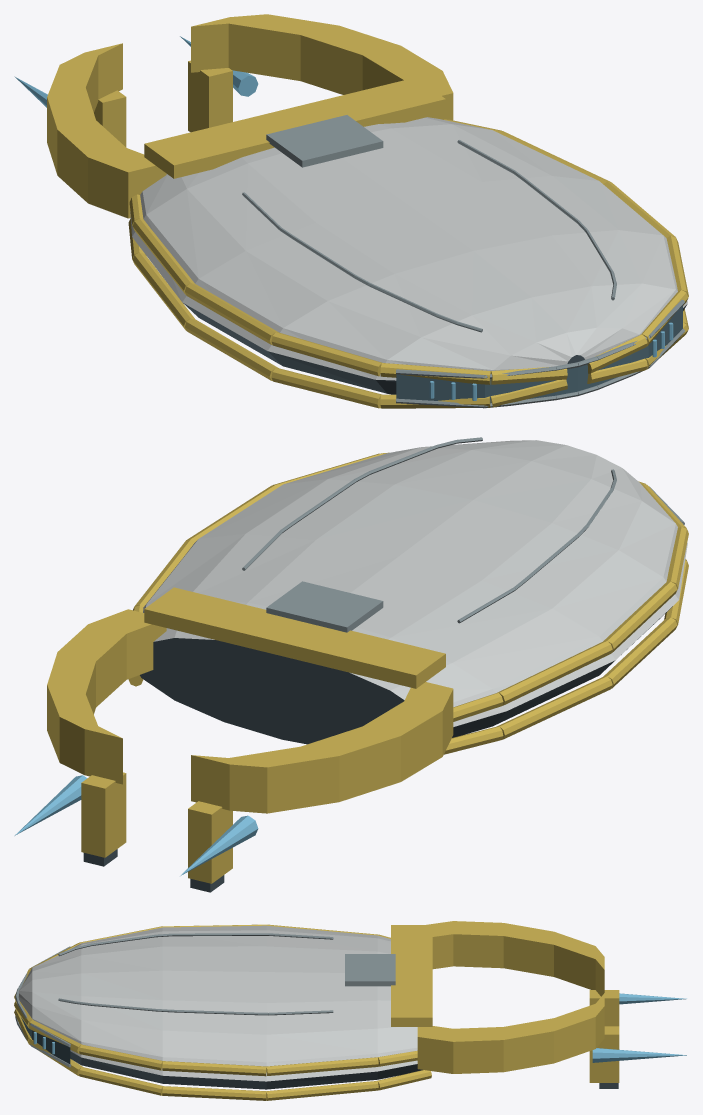
The model's file is rayfam_yellow_flight.glb.
The picture shows the model from 3 angles, top to bottom: view 1: azimuth 30°, elevation 25°; view 2: azimuth 150°, elevation 25°; view 3: azimuth 270°, elevation 25°; orthographic projection. The views are drawn at different scales.
Parts seen in each view (by area): view 1: material_0, material_2, material_3, material_4, material_1, material_5; view 2: material_0, material_2, material_1, material_3, material_5; view 3: material_0, material_2, material_3, material_1, material_5, material_4.
Boxes of the visible parts, left/top/right/bottom form: material_0: left=130, top=117, right=687, bottom=380; material_2: left=47, top=14, right=688, bottom=408; material_3: left=242, top=115, right=684, bottom=408; material_4: left=396, top=305, right=682, bottom=403; material_1: left=183, top=303, right=687, bottom=394; material_5: left=14, top=36, right=673, bottom=400; material_0: left=143, top=440, right=687, bottom=726; material_2: left=47, top=452, right=688, bottom=883; material_1: left=83, top=606, right=672, bottom=892; material_3: left=242, top=437, right=684, bottom=632; material_5: left=14, top=775, right=258, bottom=875; material_0: left=19, top=925, right=417, bottom=1081; material_2: left=14, top=921, right=619, bottom=1100; material_3: left=15, top=933, right=395, bottom=1067; material_1: left=70, top=1051, right=618, bottom=1089; material_5: left=33, top=993, right=686, bottom=1062; material_4: left=21, top=1017, right=70, bottom=1063.
Size of the model in its own units: 17.71 by 5.57 by 34.17.
